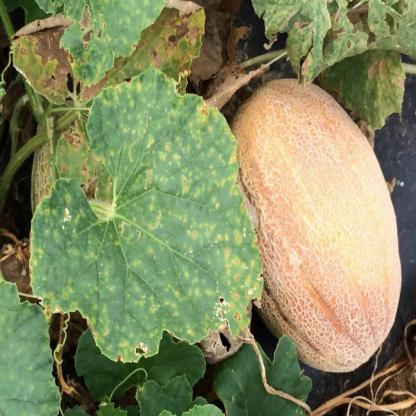Anthracnose: (99, 90, 248, 228), (133, 191, 261, 336)
